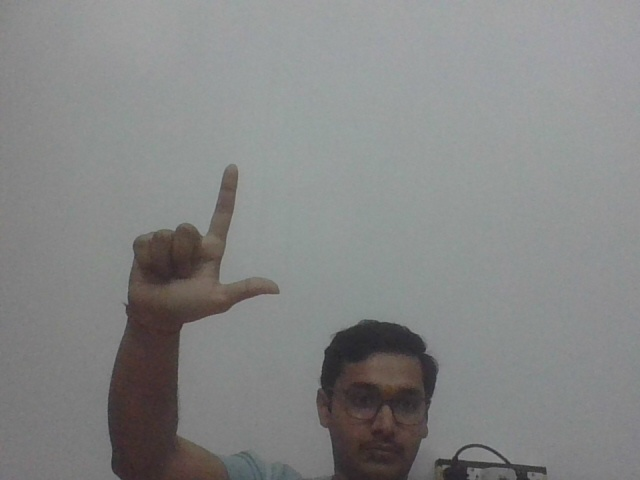L: (127, 165, 285, 326)
